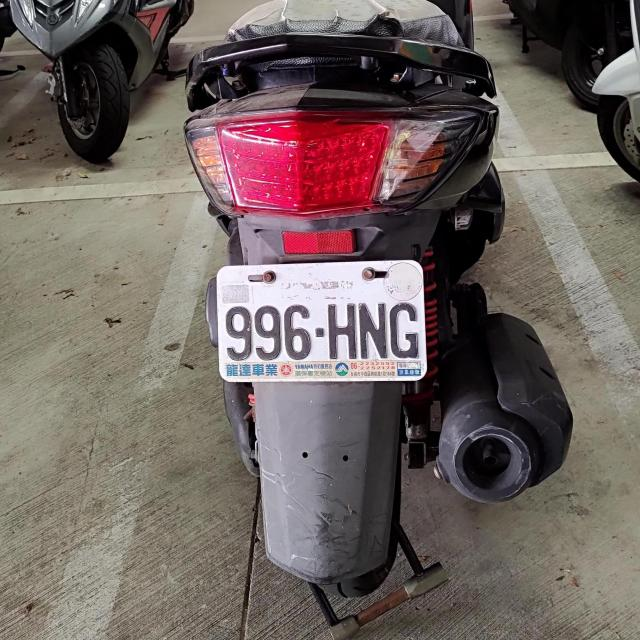W: (214, 258, 426, 385)
